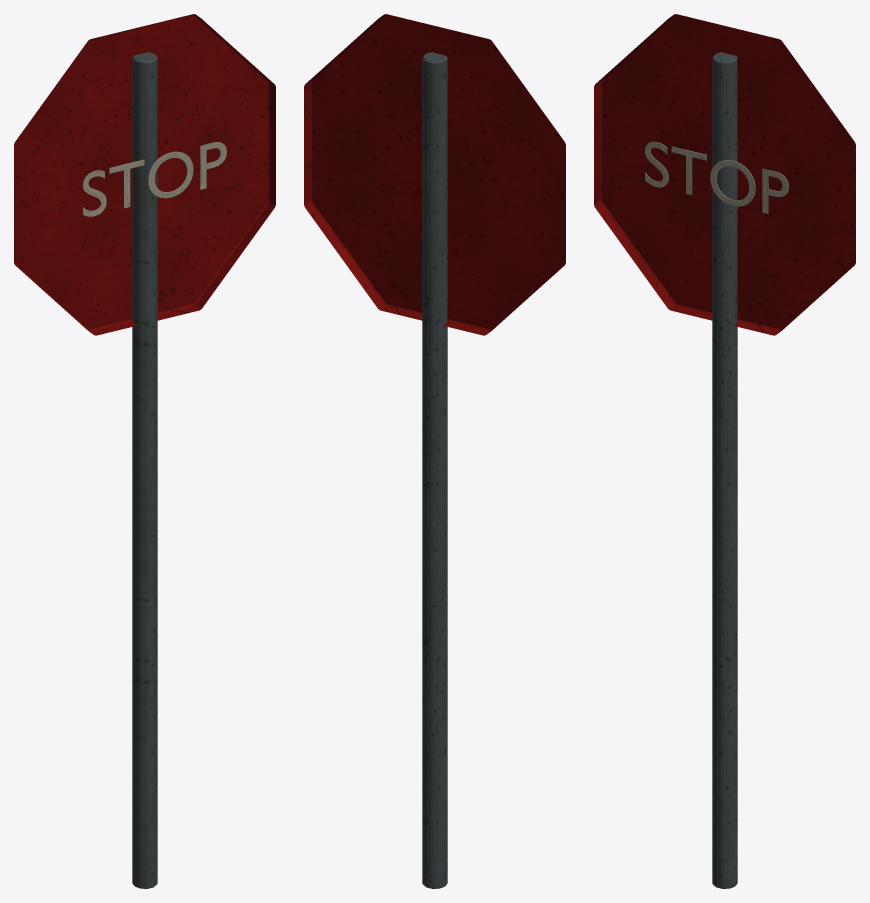
The model's file is PROP-FA0FFFDCB22C_lod1.glb.
The picture shows the model from 3 angles, left to right: view 1: azimuth 30°, elevation 25°; view 2: azimuth 150°, elevation 25°; view 3: azimuth 330°, elevation 25°; orthographic projection.
Parts seen in each view (by area): view 1: shaped_sign_plate.008, sign_post.030, sign_letters_STOP.001; view 2: shaped_sign_plate.008, sign_post.030; view 3: shaped_sign_plate.008, sign_post.030, sign_letters_STOP.001.
Boxes of the visible parts, x1,y1,x2,y2 form: shaped_sign_plate.008: (14,14,275,335); sign_post.030: (132,52,157,888); sign_letters_STOP.001: (82,142,226,216); shaped_sign_plate.008: (304,14,565,335); sign_post.030: (422,52,447,888); shaped_sign_plate.008: (594,14,855,335); sign_post.030: (712,52,737,888); sign_letters_STOP.001: (645,141,788,213).
Bounding box in the file's own units: 0.7927 × 2.53 × 0.0823.
Materials: 3 (3 with a texture image).
